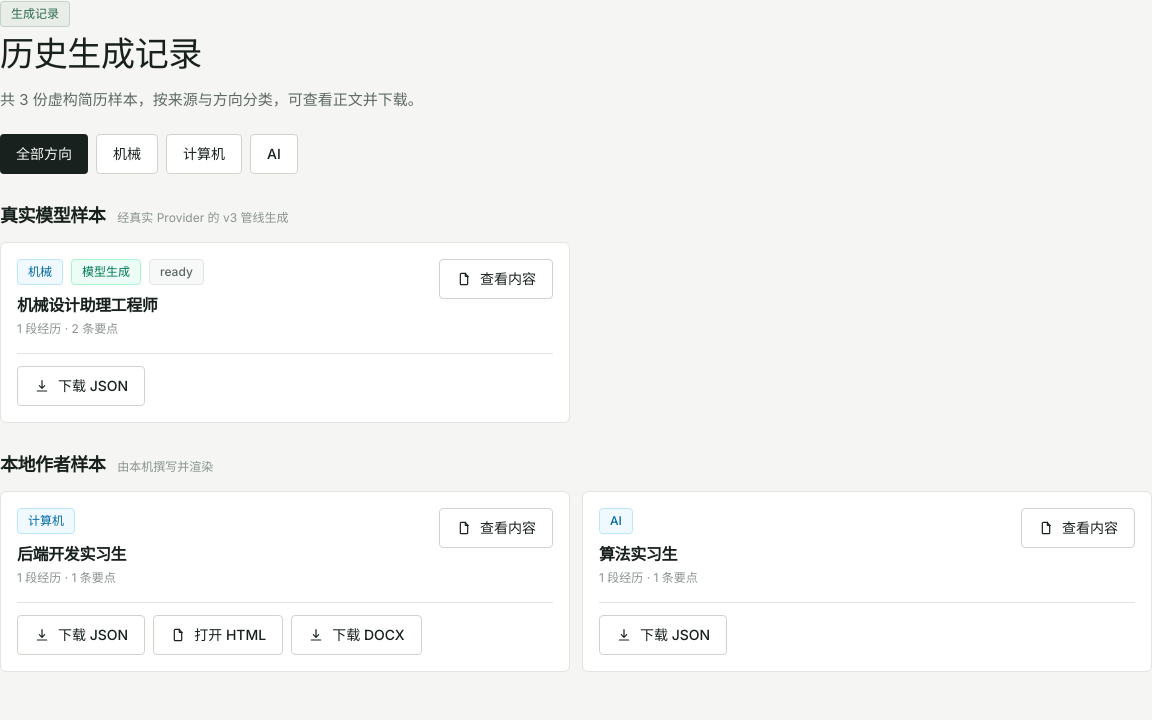
Test case: 生成记录可展开正文并按方向筛选
The width and height of the screenshot is (1152, 720).
Check: the heading "后端开发实习生" is shown, box [17,542,126,566]
Click the button "查看内容" in the row of "ready": point(496, 279) [439,259,553,299]
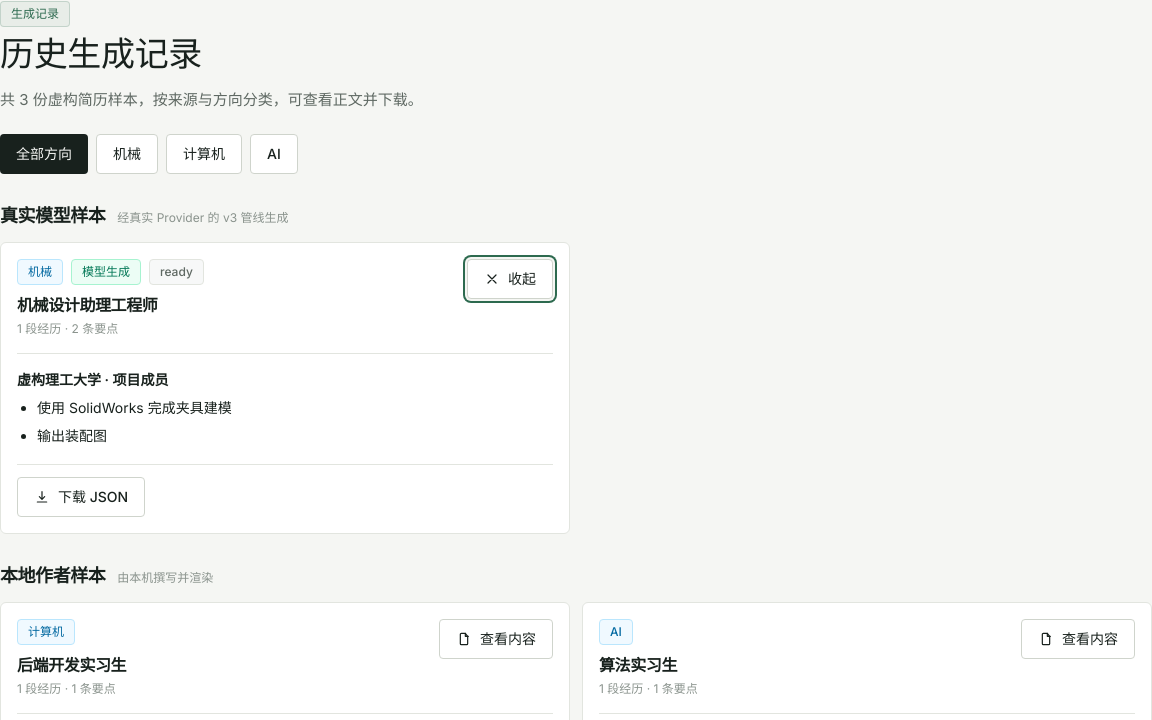
Check: the list item "使用 SolidWorks 完成夹具建模" is shown, box [37,399,232,416]
Click the button "计算机": point(204, 154) [166,134,242,174]
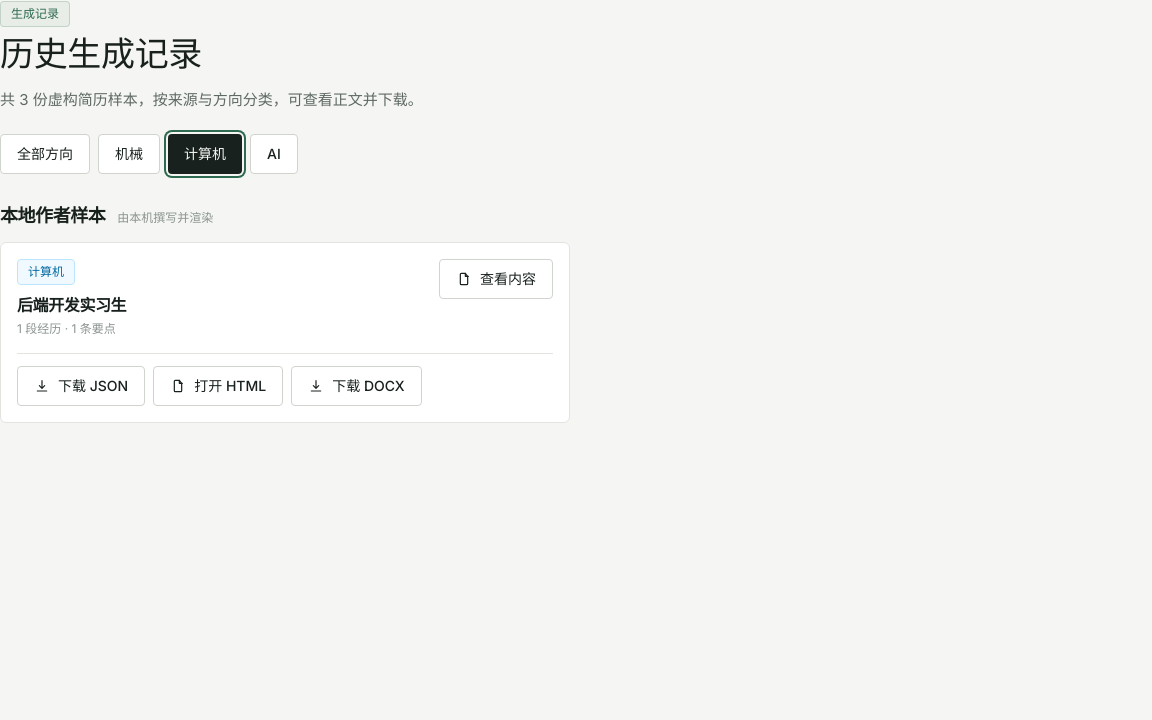
Check: the heading "后端开发实习生" is shown, box [17,293,126,317]
Check: the heading "算法实习生" is gone
Check: the heading "机械设计助理工程师" is gone
